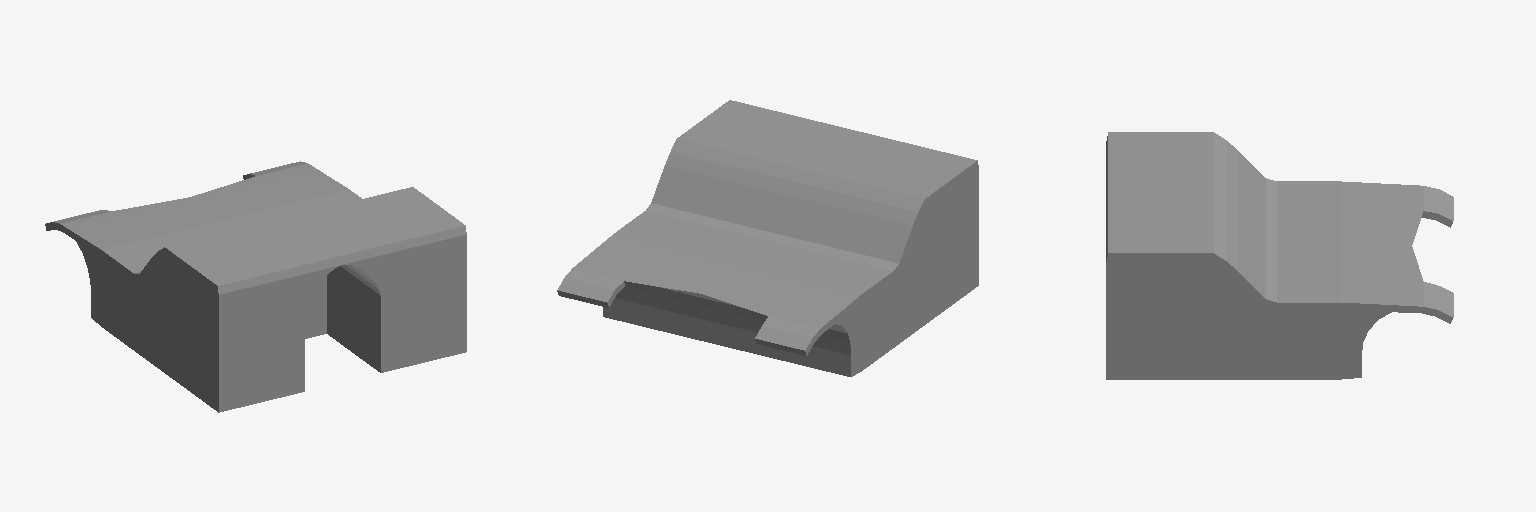
Rendered from stapler_karosse.obj.
The picture shows the model from 3 angles: view 1: azimuth 30°, elevation 25°; view 2: azimuth 150°, elevation 25°; view 3: azimuth 270°, elevation 25°; orthographic projection.
Parts seen in each view (by area): view 1: karosse_Plane.002; view 2: karosse_Plane.002; view 3: karosse_Plane.002.
Part boxes in pixels (x1,y1,x2,y2): karosse_Plane.002: (45, 161, 466, 412); karosse_Plane.002: (557, 100, 978, 376); karosse_Plane.002: (1106, 132, 1453, 379).
Bounding box in the file's own units: 7.54 × 3.66 × 9.13.